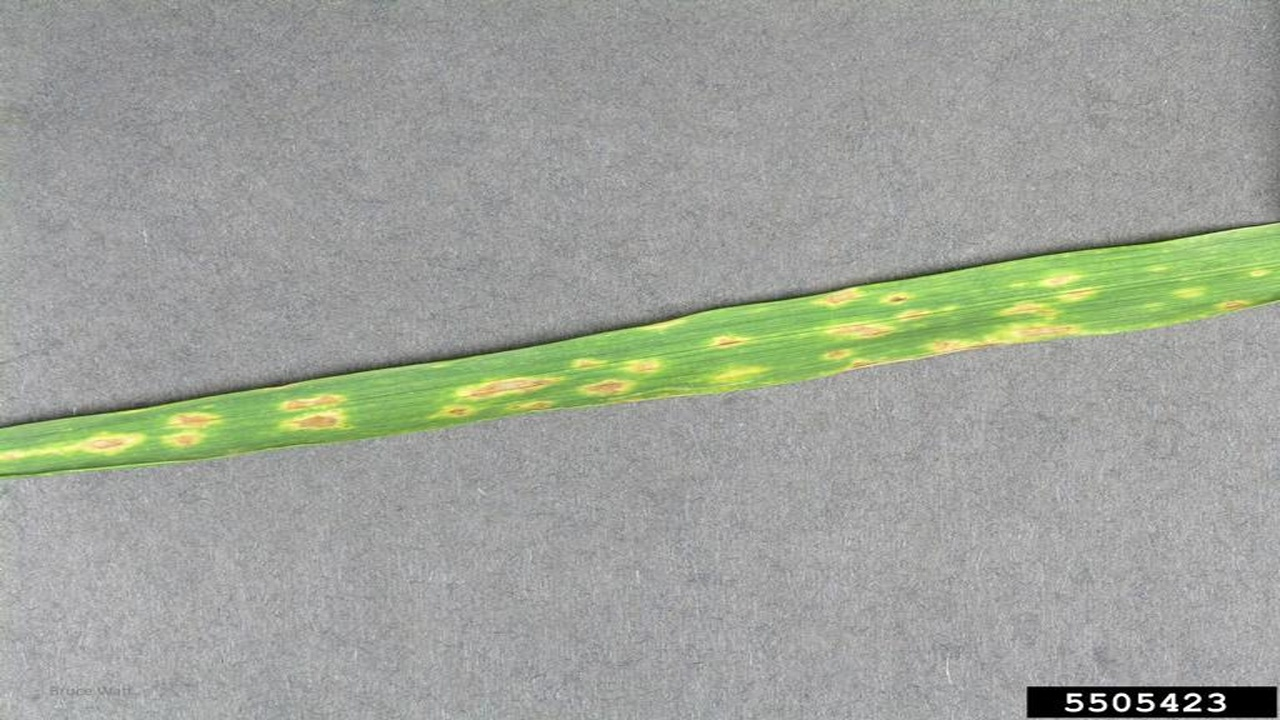tan_spot: (1, 222, 1278, 478)
